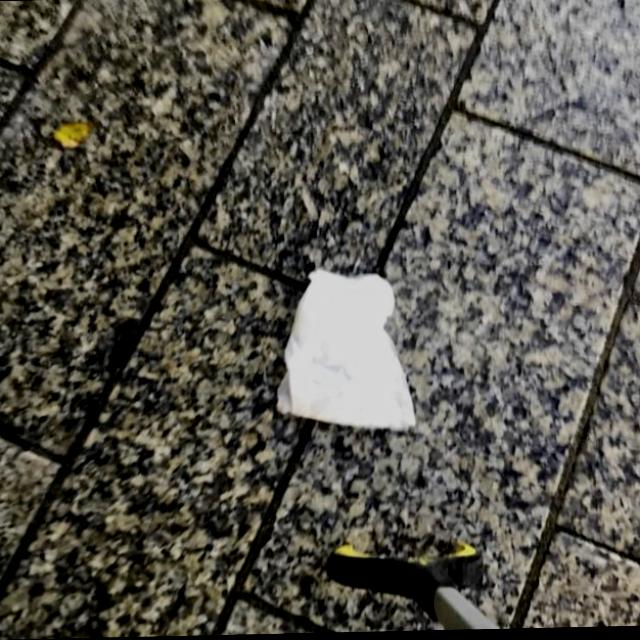Paper: (272, 263, 418, 438)
